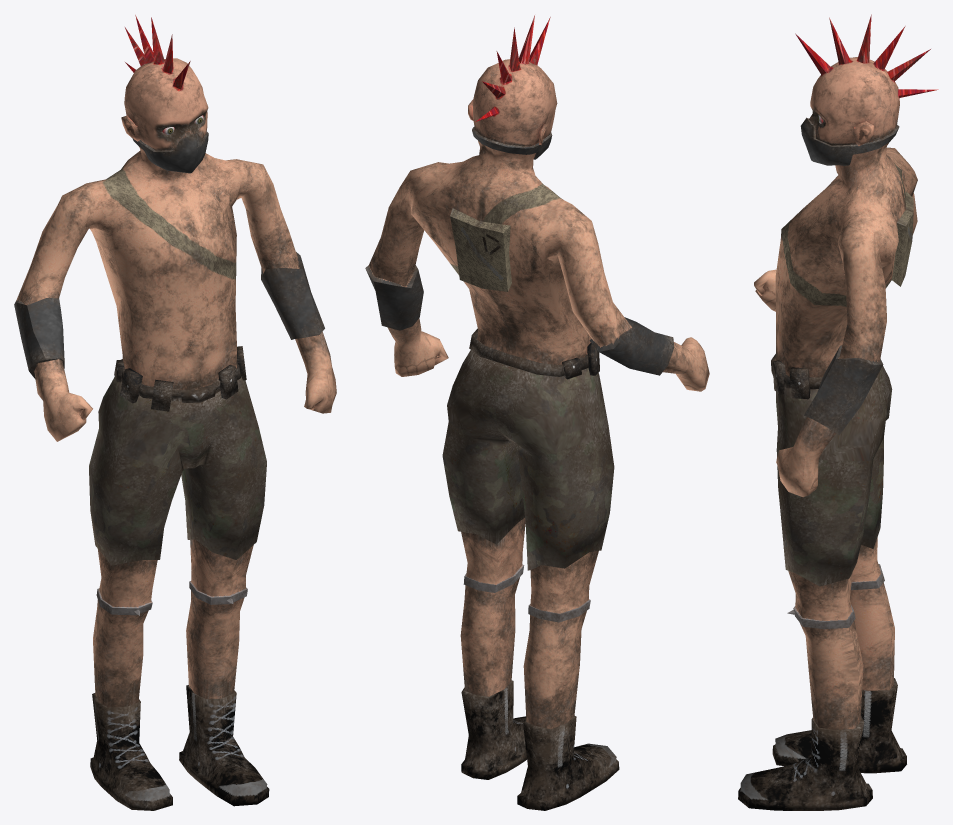
File: Anim_perder_1_npc2.0055.obj
3 renders of one model, left to right at view 1: azimuth 30°, elevation 25°; view 2: azimuth 150°, elevation 25°; view 3: azimuth 270°, elevation 25°, orthographic.
Parts seen in each view (by area): view 1: polySurface1; view 2: polySurface1; view 3: polySurface1.
Boxes of the visible parts, bbox=[...] form: polySurface1: bbox=[14, 15, 336, 810]; polySurface1: bbox=[365, 15, 709, 810]; polySurface1: bbox=[738, 14, 938, 810].
Bounding box in the file's own units: 4.19 × 10.14 × 2.4.
2 materials, 2 textured.
